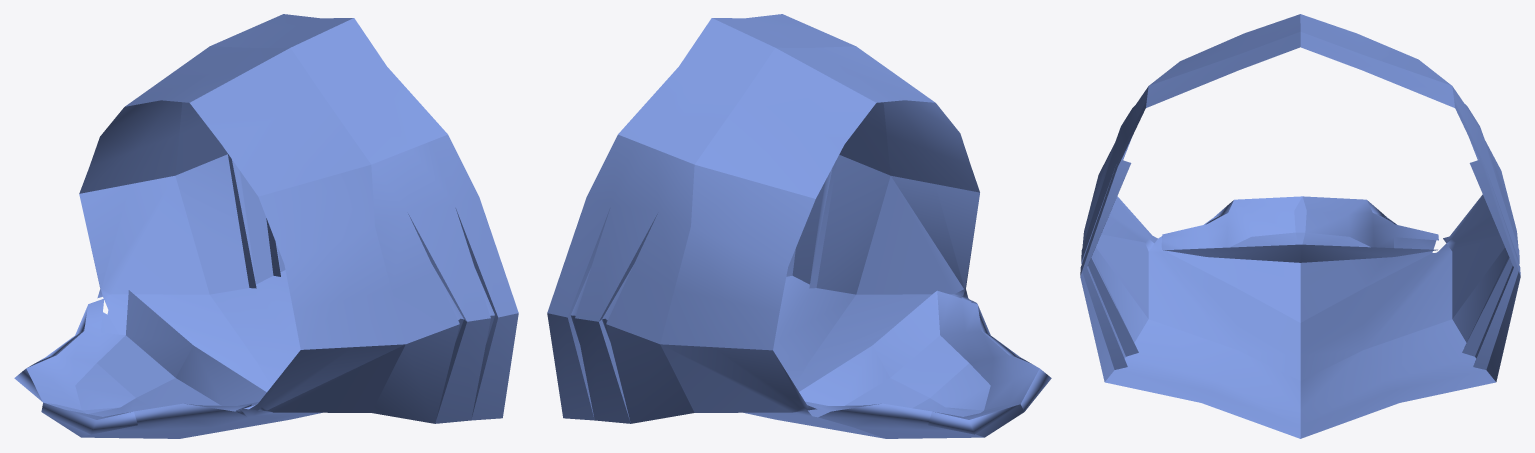
Rendered from Head_Lower.obj.
3 renders of one model, left to right at view 1: azimuth 30°, elevation 25°; view 2: azimuth 150°, elevation 25°; view 3: azimuth 270°, elevation 25°, orthographic. The views are drawn at different scales.
Parts seen in each view (by area): view 1: LowerHead pCylinder5; view 2: LowerHead pCylinder5; view 3: LowerHead pCylinder5.
Part boxes in pixels (box(x1,y1,x2,y2)): LowerHead pCylinder5: box(14, 14, 518, 438); LowerHead pCylinder5: box(547, 14, 1051, 438); LowerHead pCylinder5: box(1080, 14, 1520, 438).
Bounding box in the file's own units: 3.88 × 3.93 × 4.29.
